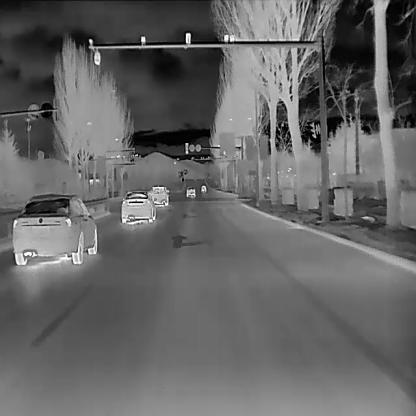car: (11, 192, 97, 265), (120, 188, 156, 224), (149, 184, 169, 206), (185, 185, 196, 197), (200, 184, 206, 192)
